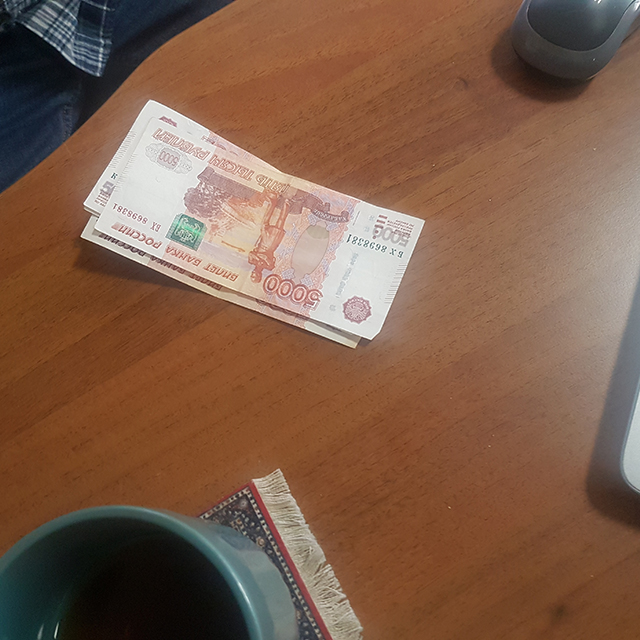banknotes: (79, 99, 427, 346)
